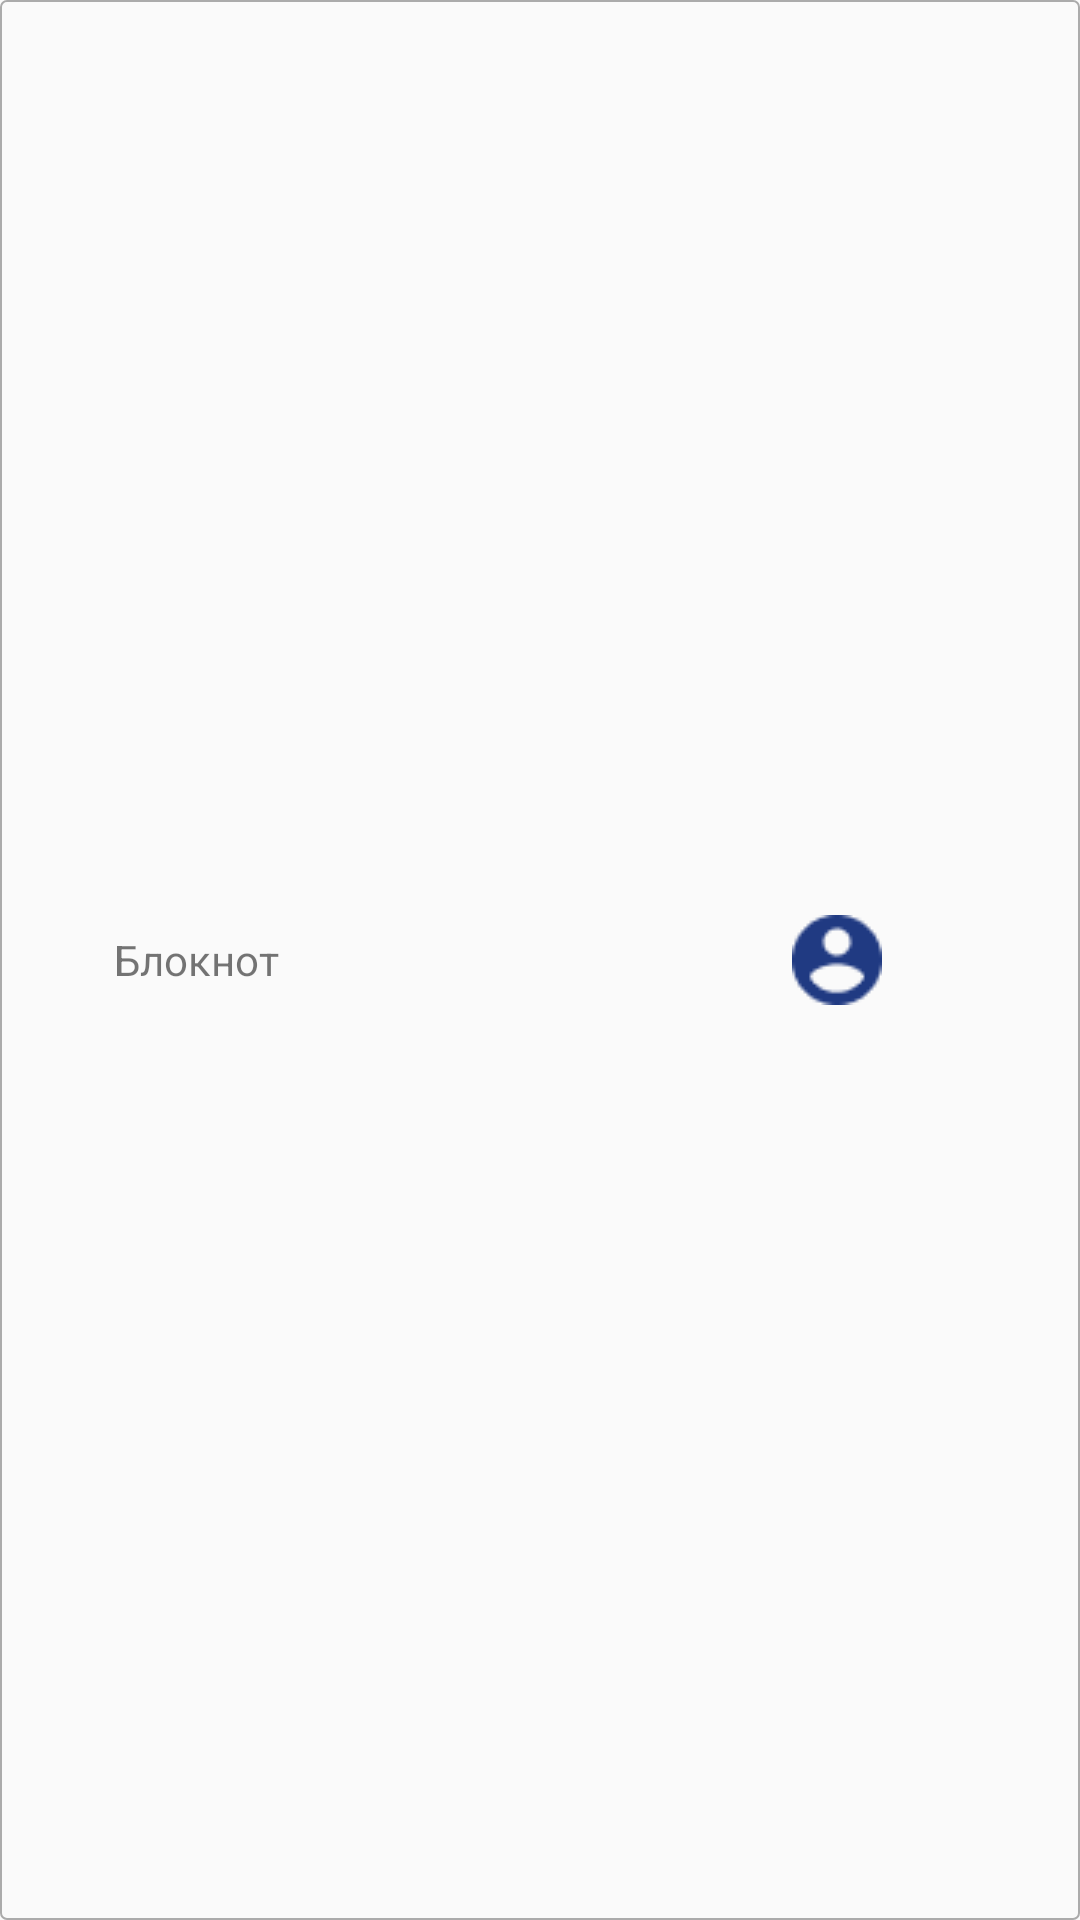

Where icons sit on this 1080px×1920px app screen, as (x1, y1, x2, y2):
user: (792, 915, 882, 1005)
